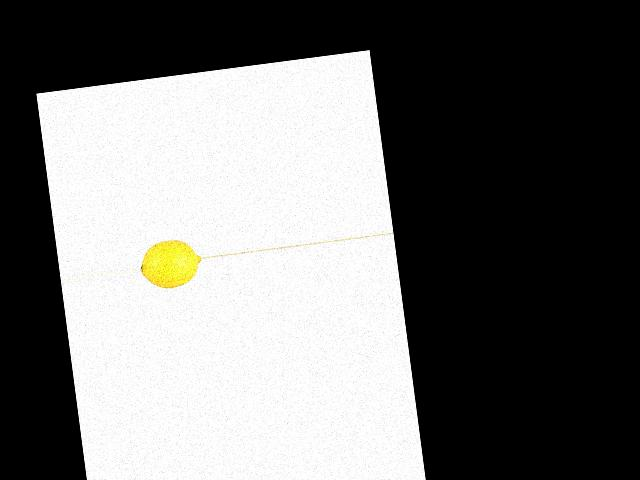lemon: (138, 236, 203, 292)
